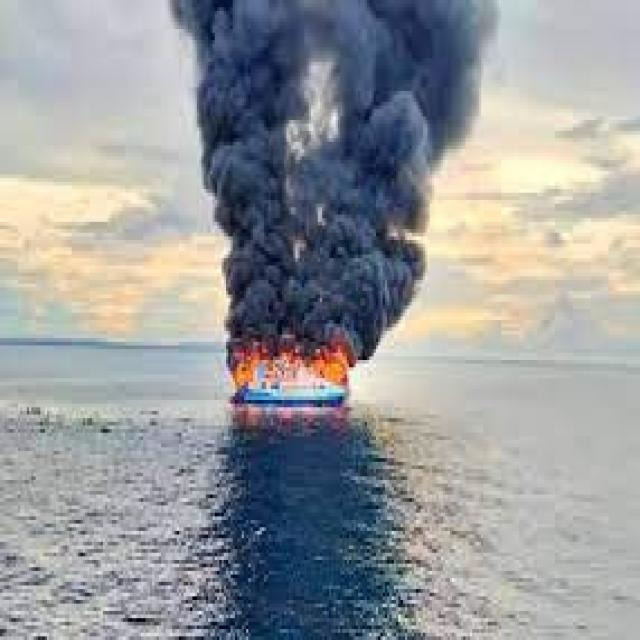Fire: (238, 333, 361, 413)
Smoke: (192, 2, 456, 334)
